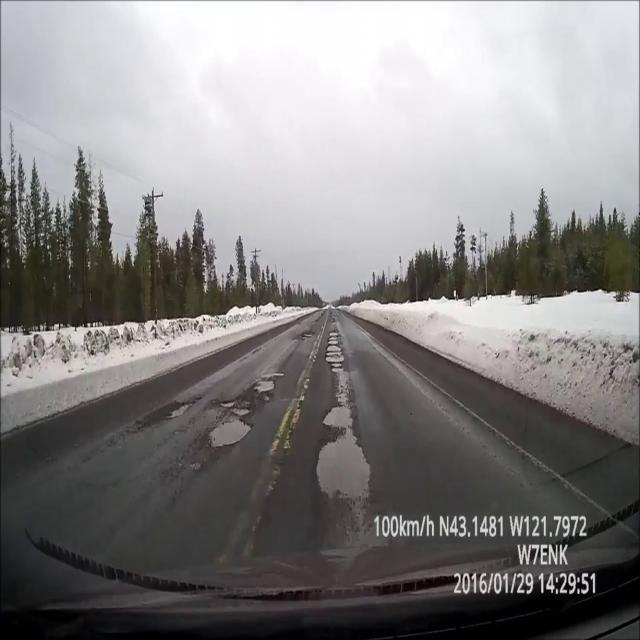pothole: (316, 429, 374, 509), (206, 418, 255, 450), (323, 402, 353, 430), (167, 402, 194, 419), (253, 379, 277, 396), (325, 355, 345, 363), (325, 346, 345, 354), (328, 332, 339, 345), (331, 364, 343, 373), (301, 332, 314, 340)
